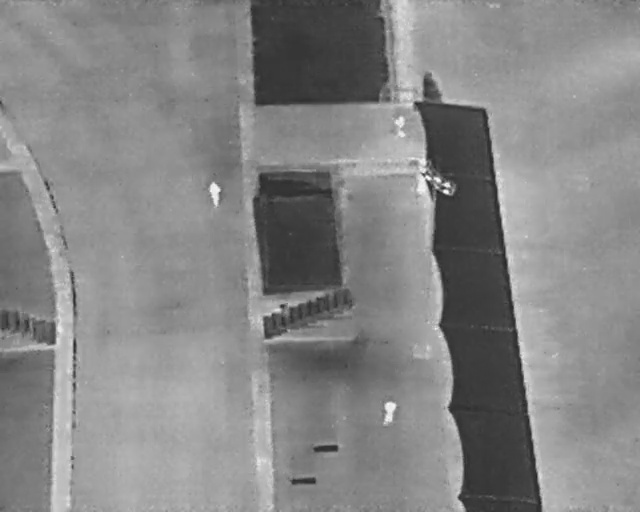Person: (380, 398, 398, 428), (206, 180, 223, 209), (393, 113, 407, 138)
